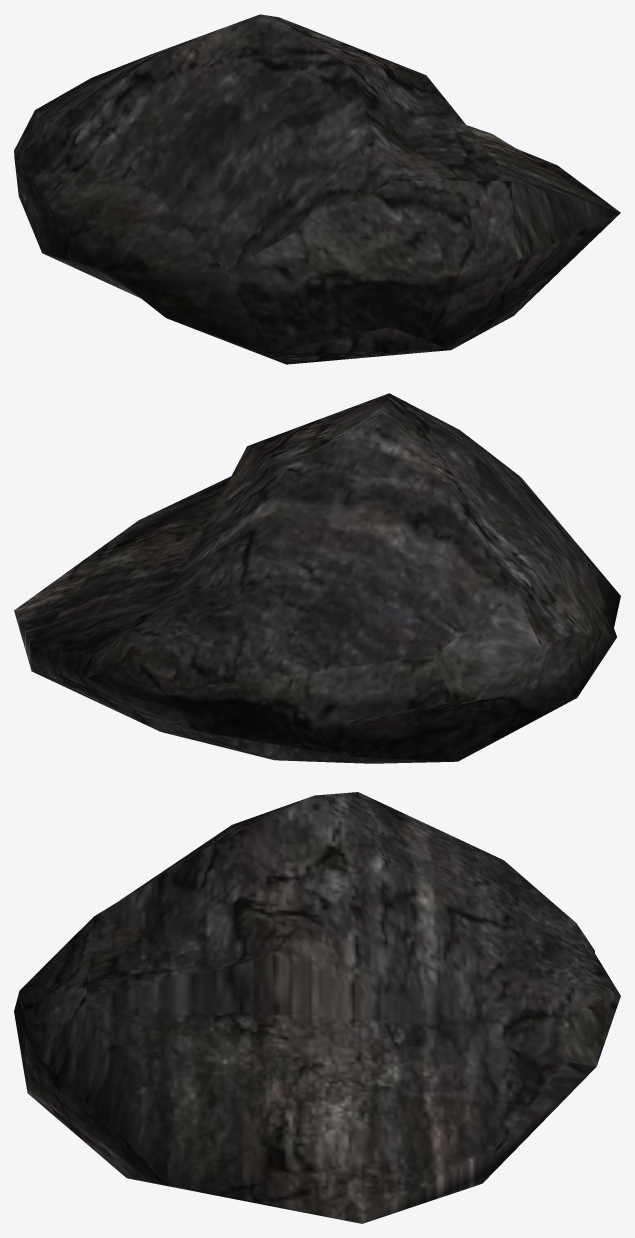
Rendered from Rock 1.glb.
3 renders of one model, top to bottom at view 1: azimuth 30°, elevation 25°; view 2: azimuth 150°, elevation 25°; view 3: azimuth 270°, elevation 25°, orthographic. The views are drawn at different scales.
Visible parts, largest first — view 1: rock_1_low; view 2: rock_1_low; view 3: rock_1_low.
Boxes of the visible parts, x1,y1,x2,y2 form: rock_1_low: [14, 14, 620, 364]; rock_1_low: [14, 393, 620, 763]; rock_1_low: [14, 792, 620, 1223].
Size of the model in its own units: 0.1528 by 0.0779 by 0.1445.
1 material, 1 textured.
